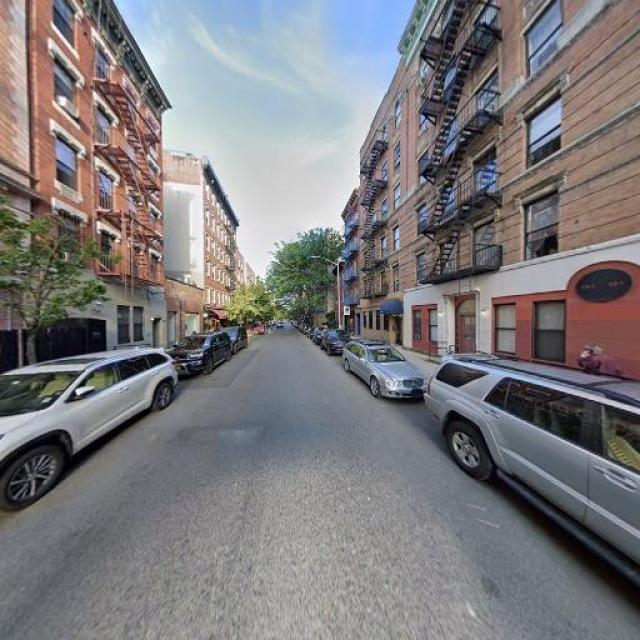Building: (407, 1, 640, 409), (37, 1, 162, 393), (1, 1, 29, 402)
